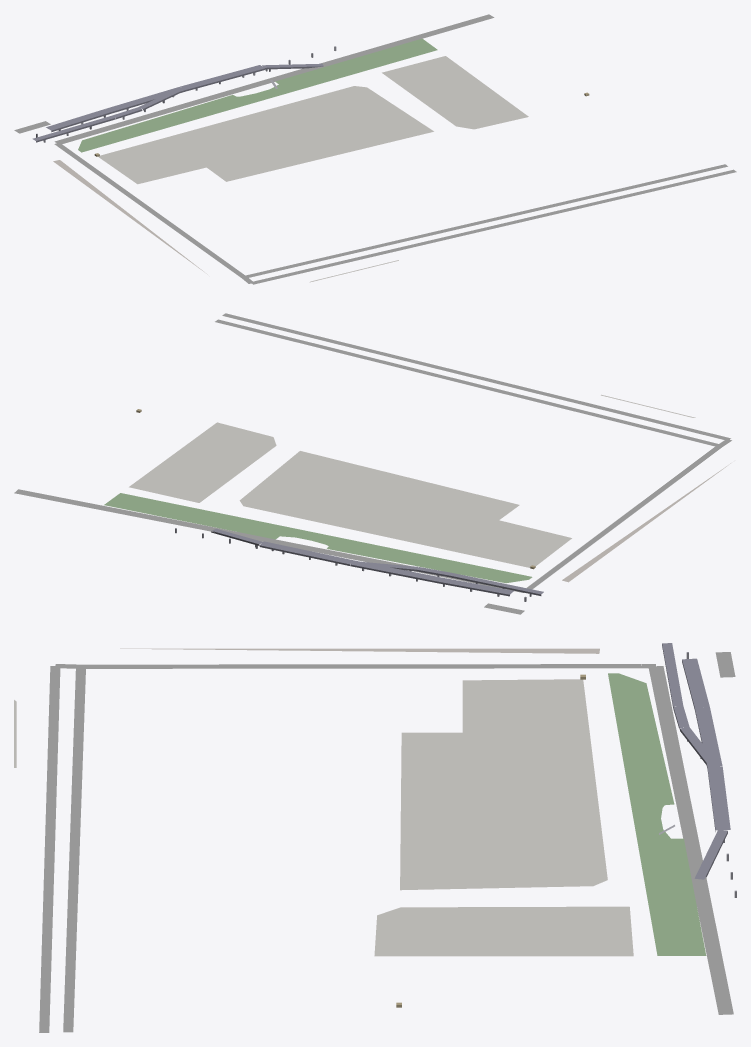
The picture shows the model from 3 angles, top to bottom: view 1: azimuth 30°, elevation 25°; view 2: azimuth 150°, elevation 25°; view 3: azimuth 270°, elevation 25°; orthographic projection. The views are drawn at different scales.
Size of the model in its own units: 624 by 9.23 by 499.
